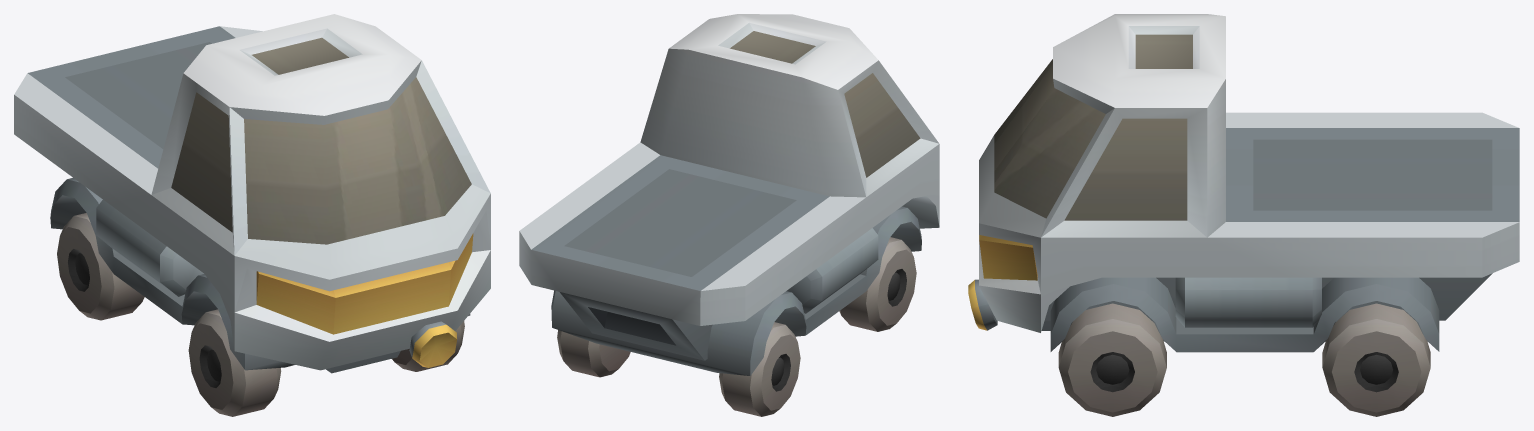
Rendered from moon-rover.glb.
3 renders of one model, left to right at view 1: azimuth 30°, elevation 25°; view 2: azimuth 150°, elevation 25°; view 3: azimuth 270°, elevation 25°, orthographic. The views are drawn at different scales.
Visible parts, largest first — view 1: Cube.15125, spacetruck_wheel_front_right, spacetruck_wheel_rear_right, spacetruck_wheel_front_left; view 2: Cube.15125, spacetruck_wheel_rear_right, spacetruck_wheel_front_right, spacetruck_wheel_rear_left; view 3: Cube.15125, spacetruck_wheel_front_left, spacetruck_wheel_rear_left.
Boxes of the visible parts, x1=… form: Cube.15125: x1=14, y1=14, x2=490, y2=373; spacetruck_wheel_front_right: x1=188, y1=309, x2=281, y2=416; spacetruck_wheel_rear_right: x1=57, y1=213, x2=144, y2=320; spacetruck_wheel_front_left: x1=392, y1=321, x2=464, y2=371; Cube.15125: x1=519, y1=14, x2=939, y2=375; spacetruck_wheel_rear_right: x1=719, y1=322, x2=800, y2=416; spacetruck_wheel_front_right: x1=839, y1=237, x2=916, y2=331; spacetruck_wheel_rear_left: x1=557, y1=330, x2=630, y2=377; Cube.15125: x1=968, y1=14, x2=1519, y2=352; spacetruck_wheel_front_left: x1=1058, y1=303, x2=1166, y2=416; spacetruck_wheel_rear_left: x1=1322, y1=303, x2=1430, y2=416.
Bounding box in the file's own units: 2.19 × 2.54 × 4.
1 material, 1 textured.
